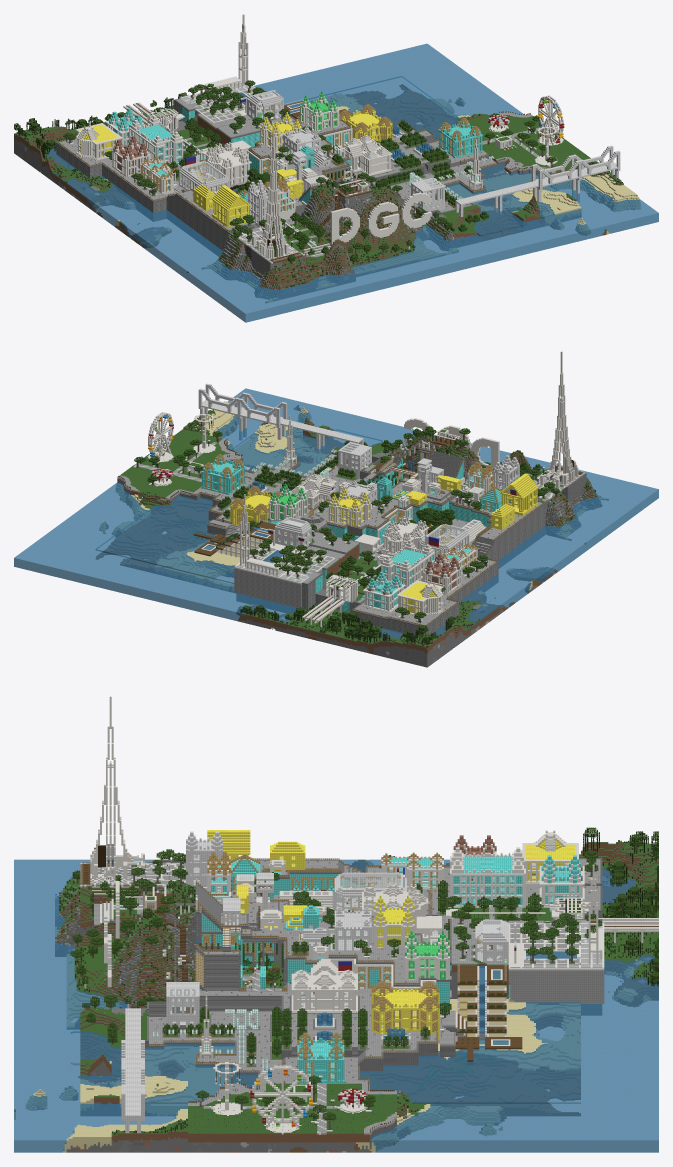
Rendered from proj.glb.
3 renders of one model, top to bottom at view 1: azimuth 30°, elevation 25°; view 2: azimuth 150°, elevation 25°; view 3: azimuth 270°, elevation 25°, orthographic. The views are drawn at different scales.
Bounding box in the file's own units: 340 × 123 × 330.
Materials: 140 (140 with a texture image).
